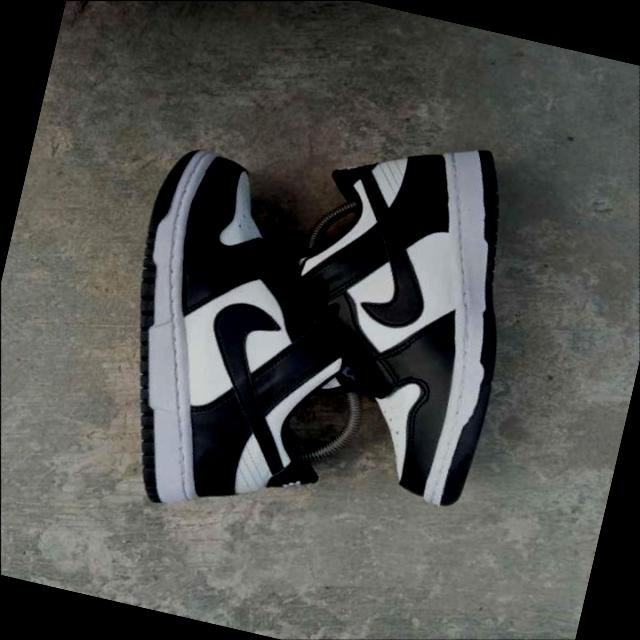nike_fake_jordan: (57, 98, 432, 550), (213, 96, 580, 552)
